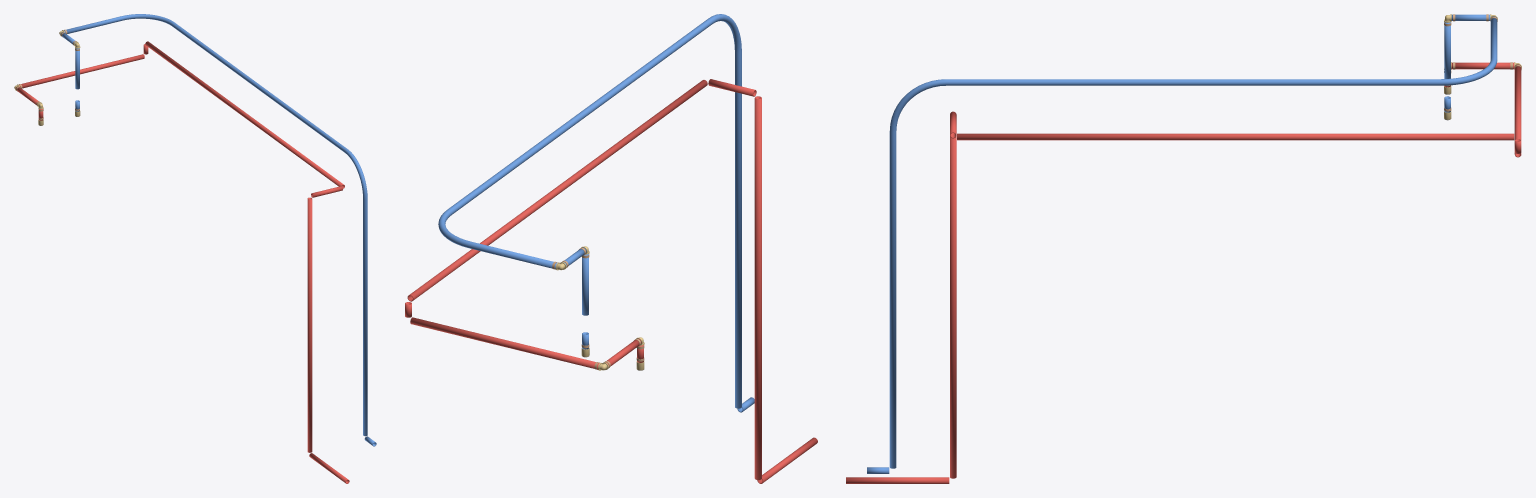
File: slab_pipes_supply__water_heater-closet_gas_tank+closet_electric_tank_and_plumbing-pex+attic_repipe__r4y.glb
The picture shows the model from 3 angles, left to right: view 1: azimuth 30°, elevation 25°; view 2: azimuth 150°, elevation 25°; view 3: azimuth 270°, elevation 25°; orthographic projection. The views are drawn at different scales.
Visible parts, largest first — view 1: pipe_supply_hot_wh_closet__pex, pipe_supply_cold_wh_closet__pex; view 2: pipe_supply_hot_wh_closet__pex, pipe_supply_cold_wh_closet__pex; view 3: pipe_supply_hot_wh_closet__pex, pipe_supply_cold_wh_closet__pex.
Part boxes in pixels (x1,y1,x2,y2): pipe_supply_hot_wh_closet__pex: (15, 41, 349, 483); pipe_supply_cold_wh_closet__pex: (60, 14, 376, 446); pipe_supply_hot_wh_closet__pex: (405, 79, 817, 483); pipe_supply_cold_wh_closet__pex: (438, 14, 754, 412); pipe_supply_hot_wh_closet__pex: (846, 62, 1521, 483); pipe_supply_cold_wh_closet__pex: (867, 14, 1497, 473).
Size of the model in its own units: 0.7332 by 1.57 by 2.25.
